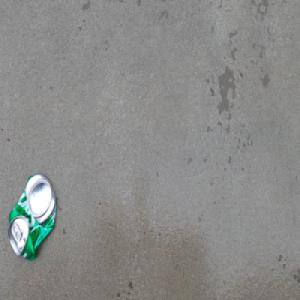SodaCan: (7, 172, 57, 264)
